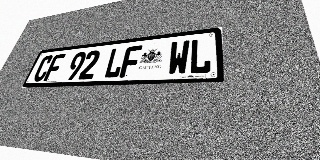2: (78, 50, 101, 80)
9: (65, 51, 88, 80)
C: (32, 55, 54, 82)
F: (119, 45, 143, 78), (43, 54, 66, 81)
L: (189, 37, 211, 75), (103, 47, 126, 78)
W: (167, 40, 190, 76)
